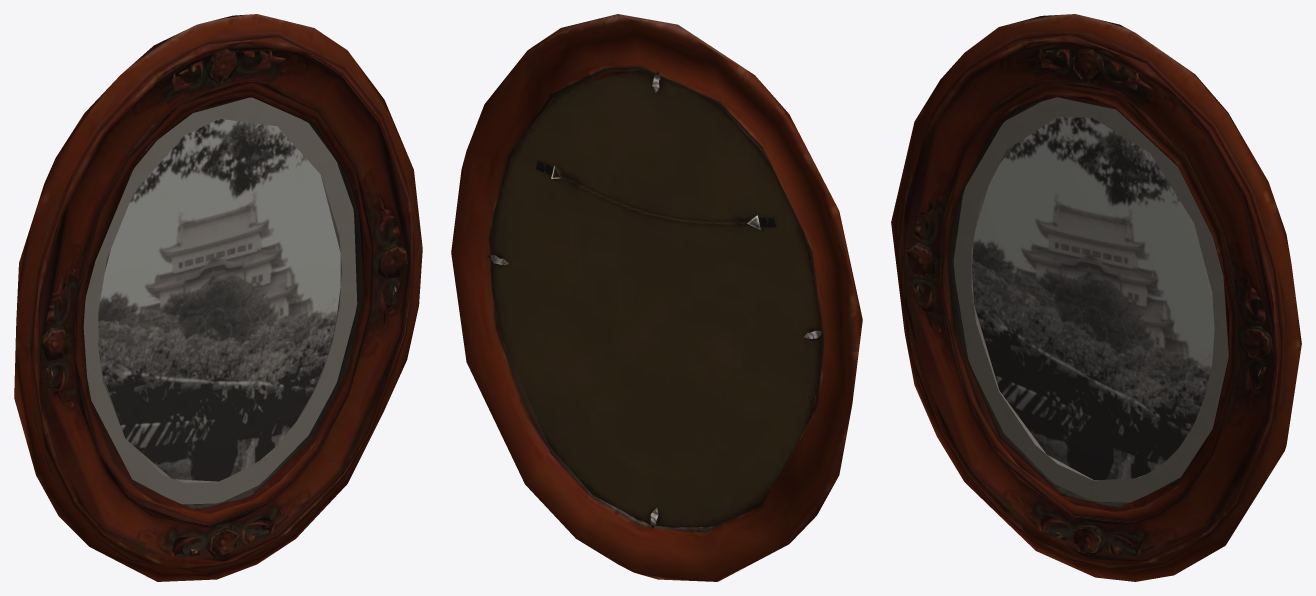
The model's file is hanging_picture_frame_03.glb.
3 views of the same model, side by side, from view 1: azimuth 30°, elevation 25°; view 2: azimuth 150°, elevation 25°; view 3: azimuth 330°, elevation 25° (orthographic).
Visible parts, largest first — view 1: hanging_picture_frame_03, hanging_picture_frame_03_glass; view 2: hanging_picture_frame_03; view 3: hanging_picture_frame_03, hanging_picture_frame_03_glass.
Part boxes in pixels (x1=…): hanging_picture_frame_03: x1=14, y1=14, x2=422, y2=581; hanging_picture_frame_03_glass: x1=84, y1=97, x2=360, y2=507; hanging_picture_frame_03: x1=451, y1=14, x2=862, y2=581; hanging_picture_frame_03: x1=891, y1=14, x2=1301, y2=581; hanging_picture_frame_03_glass: x1=950, y1=97, x2=1228, y2=505.
Size of the model in its own units: 0.3823 by 0.5008 by 0.0317.
3 materials, 2 textured.
